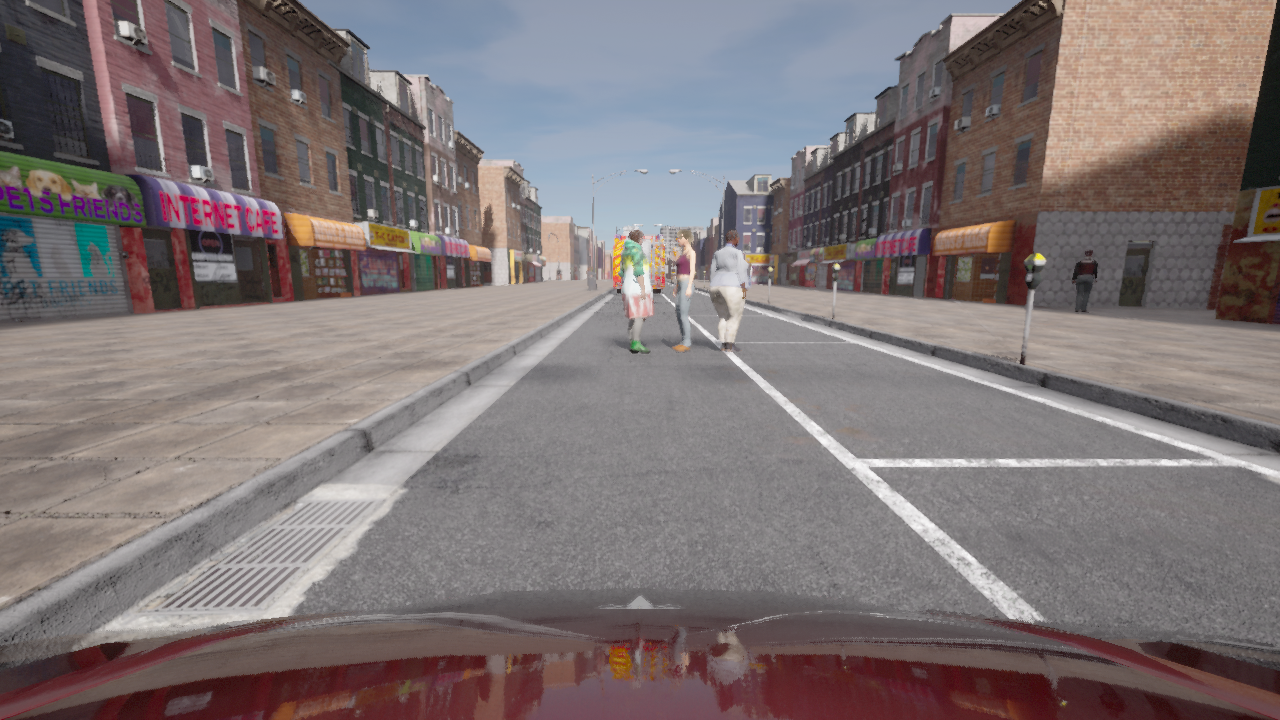cyclist: (0, 588, 1279, 719), (614, 227, 663, 293)
pedestrian: (710, 229, 750, 351), (619, 229, 654, 352), (672, 229, 694, 351), (1073, 249, 1098, 312), (748, 264, 752, 287)
